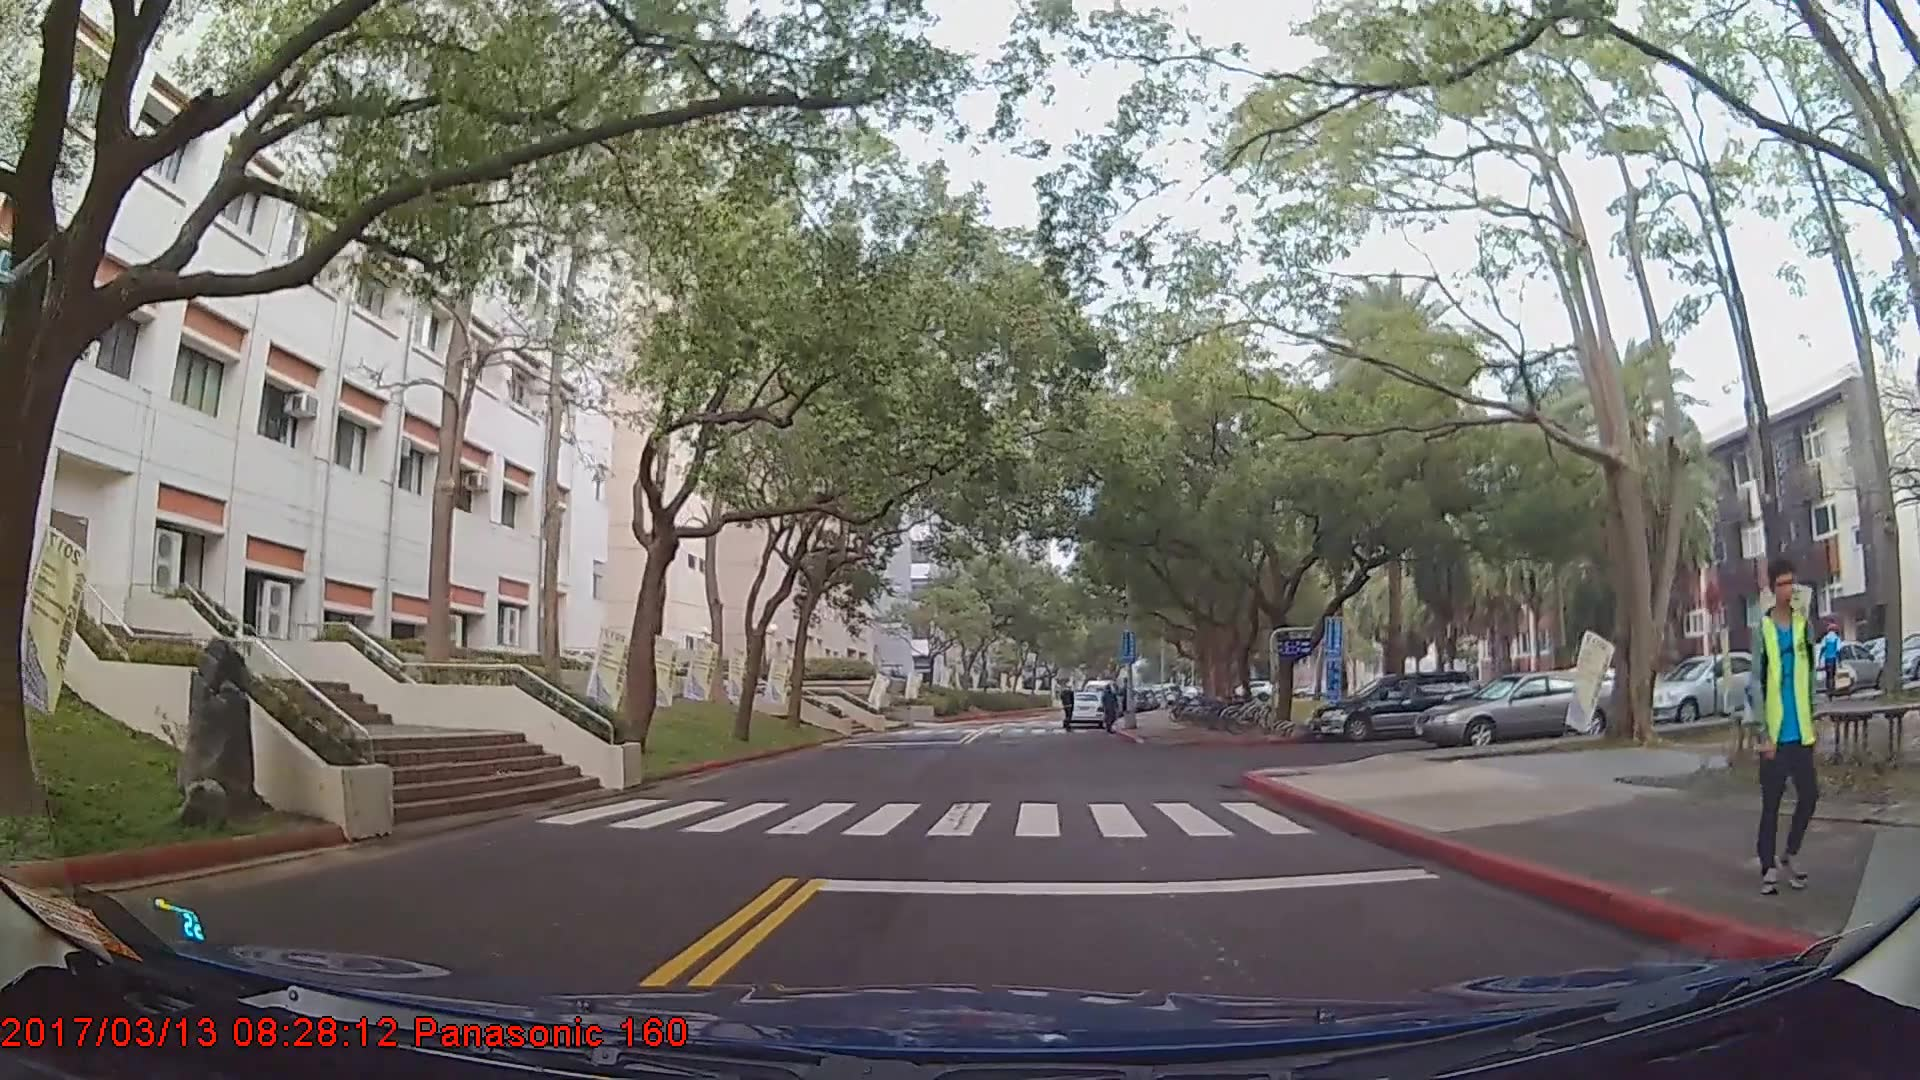pedestrian: (1741, 556, 1822, 898), (1812, 614, 1846, 706), (1102, 685, 1122, 735), (1059, 684, 1079, 735)
vehicle: (1414, 669, 1624, 747), (1309, 668, 1481, 739), (1639, 652, 1786, 724), (1792, 639, 1884, 695), (1060, 690, 1107, 728)
